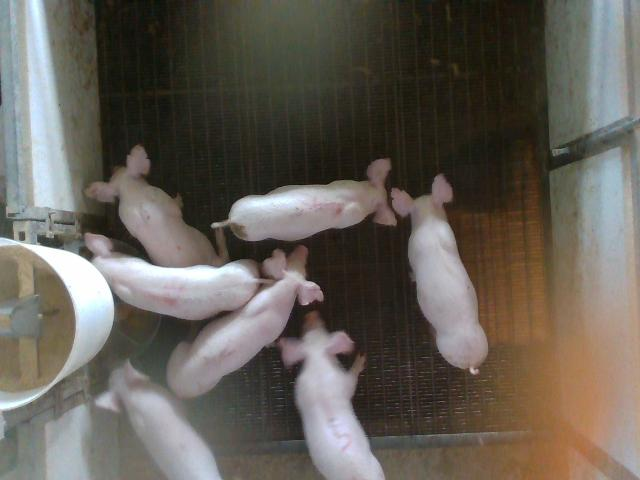pig-3: (278, 311, 385, 479)
pig-4: (85, 234, 262, 320)
pig-5: (211, 159, 396, 241)
